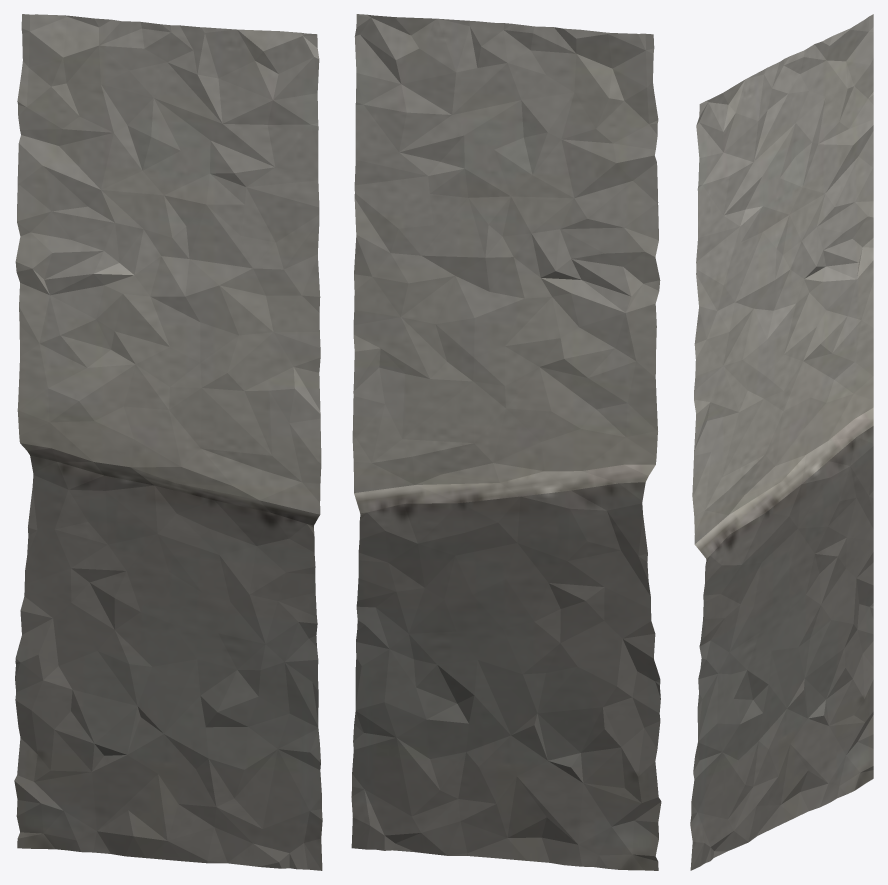
3 renders of one model, left to right at view 1: azimuth 30°, elevation 25°; view 2: azimuth 210°, elevation 25°; view 3: azimuth 270°, elevation 25°, orthographic. The views are drawn at different scales.
Size of the model in its own units: 0.2194 by 0.8374 by 0.1817.
1 material, 1 textured.
